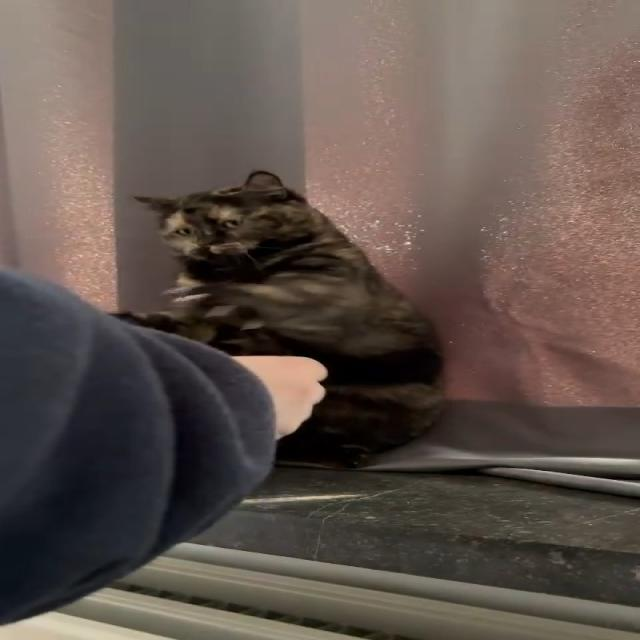authorized: (108, 169, 447, 469)
